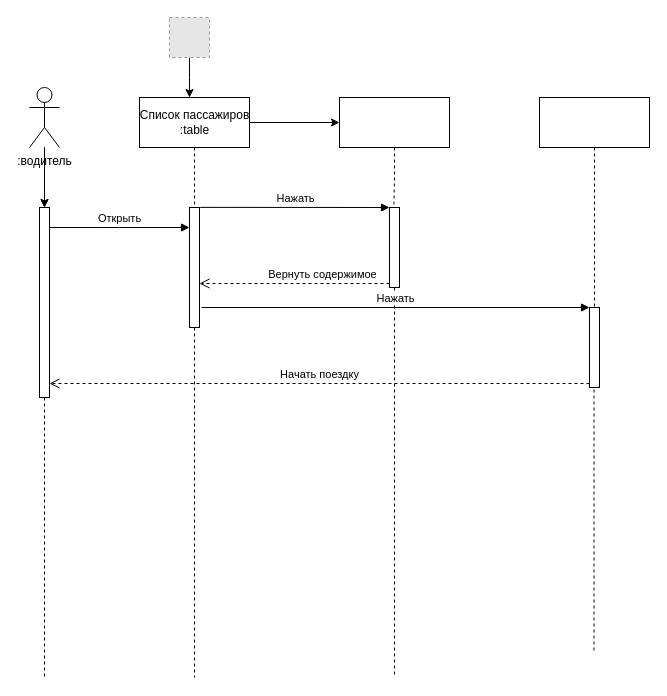
Image size: 667x696. Some labels were removed from this diagram. Grey dashed boxes stand in for pictures. Each missing label, with the centre of its shape:
"Есть: radiobutton" goes at (x=394, y=122).
"Начать поездку :button" goes at (x=594, y=122).
